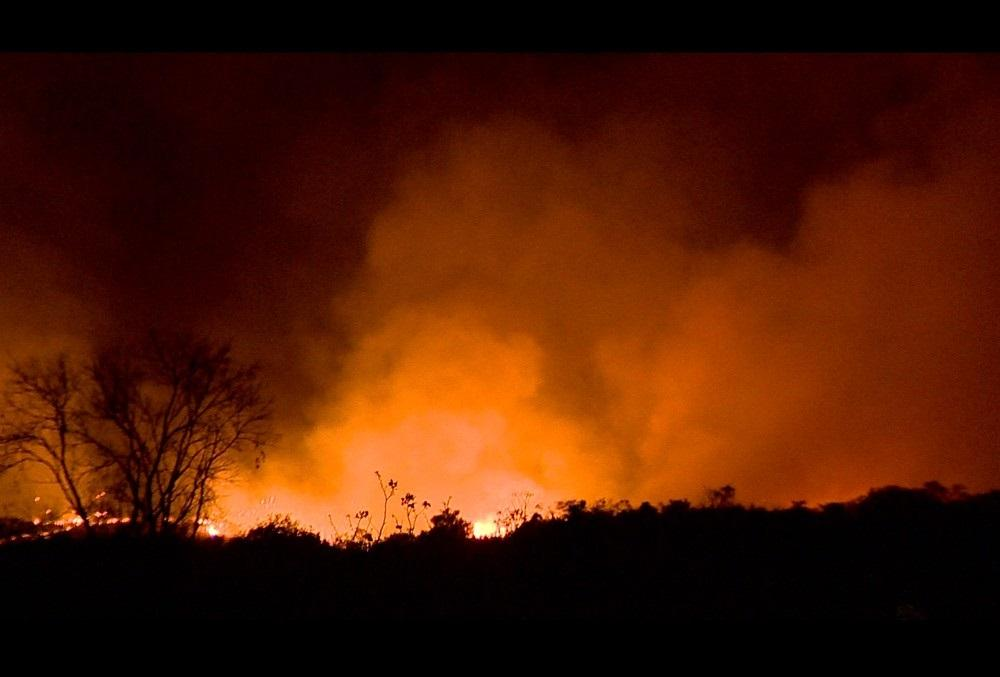fire: (9, 495, 126, 542), (476, 512, 508, 539), (195, 512, 222, 537)
